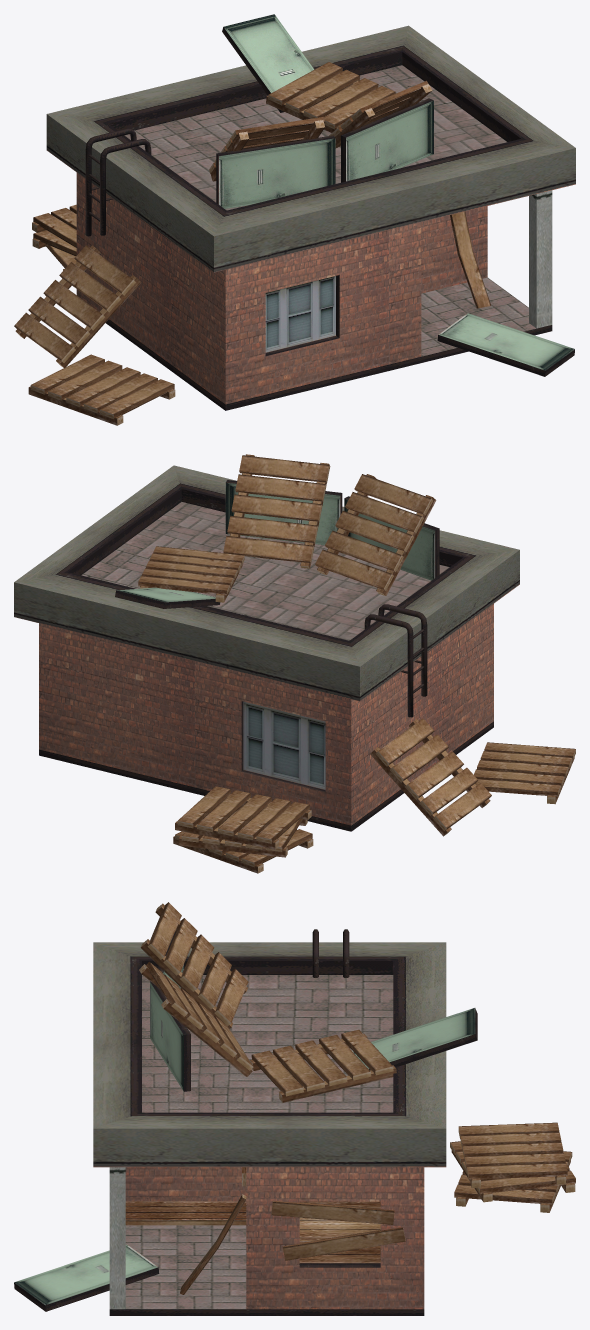
File: House.fbx
3 views of the same model, one above another, from view 1: azimuth 30°, elevation 25°; view 2: azimuth 150°, elevation 25°; view 3: azimuth 270°, elevation 25° (orthographic). The views are drawn at different scales.
Parts seen in each view (by area): view 1: House03:group1Box01; view 2: House03:group1Box01; view 3: House03:group1Box01.
Part boxes in pixels (x1,y1,x2,y2): House03:group1Box01: (14,14,575,425); House03:group1Box01: (14,454,575,873); House03:group1Box01: (14,902,575,1315).
Bounding box in the file's own units: 19.4 × 9.85 × 18.88.
Materials: 1 (1 with a texture image).
